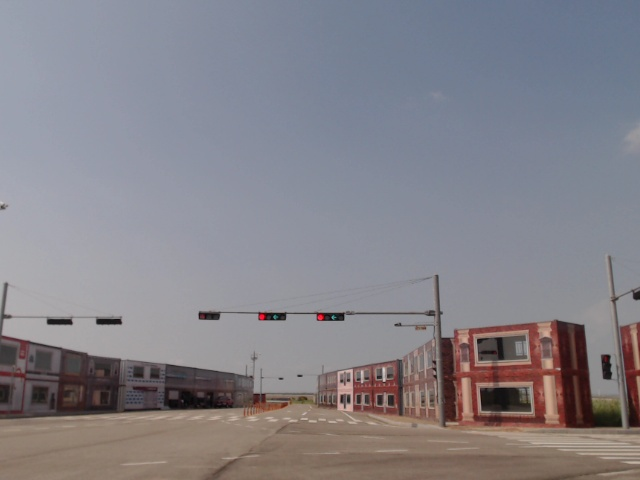left_green_4: (259, 313, 287, 320), (317, 314, 344, 320)
